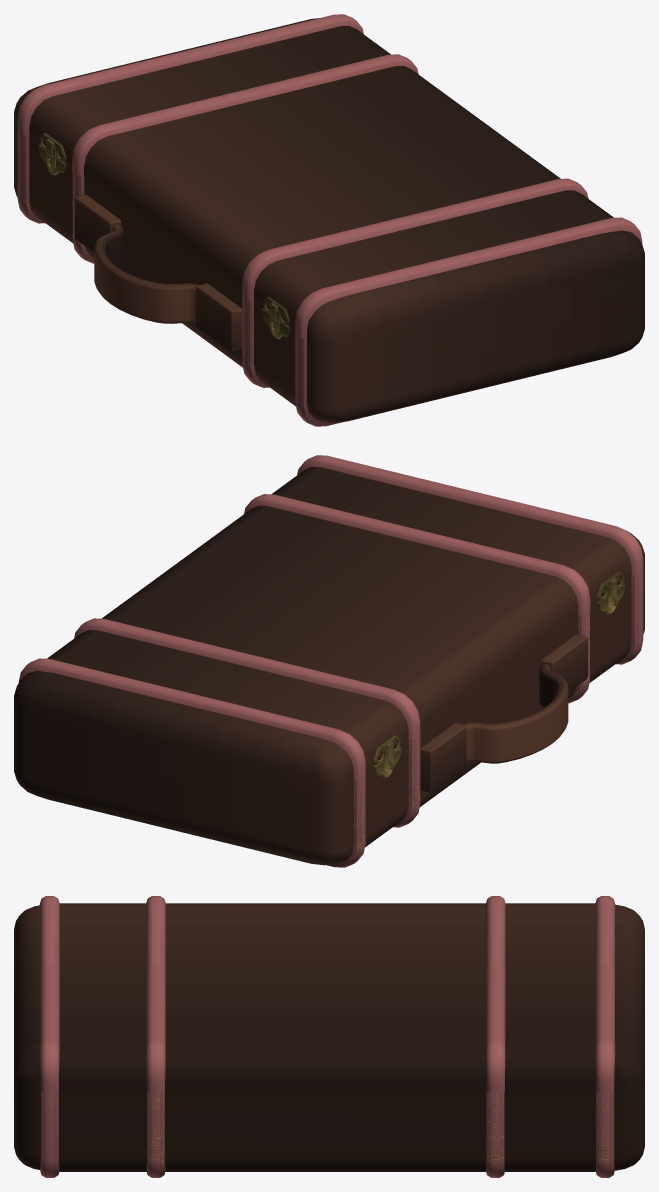
The model's file is BreifCase.fbx.
3 renders of one model, top to bottom at view 1: azimuth 30°, elevation 25°; view 2: azimuth 150°, elevation 25°; view 3: azimuth 270°, elevation 25°, orthographic.
Parts seen in each view (by area): view 1: SM_topLid, SM_botLid; view 2: SM_topLid, SM_botLid; view 3: SM_topLid, SM_botLid.
Part boxes in pixels (box(x1,y1,x2,y2)): SM_topLid: box(14, 14, 644, 344); SM_botLid: box(14, 121, 644, 426); SM_topLid: box(14, 455, 644, 786); SM_botLid: box(14, 564, 644, 867); SM_topLid: box(14, 896, 644, 1092); SM_botLid: box(14, 1081, 644, 1177).
Size of the model in its own units: 42.82 by 14.04 by 59.5.
